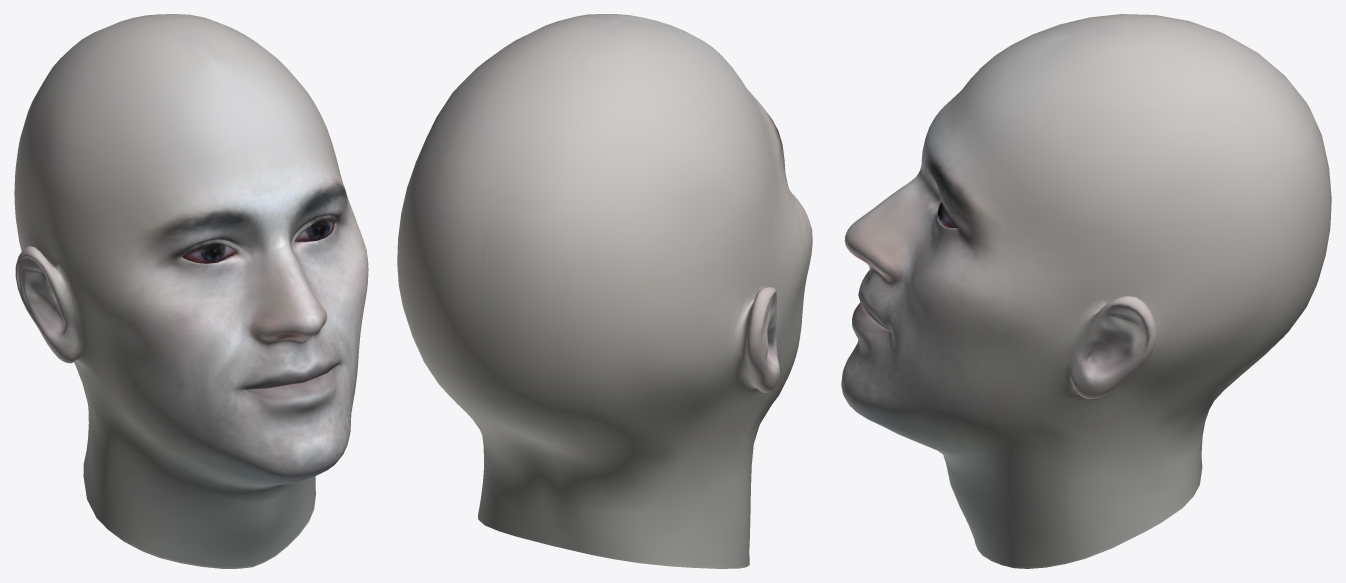
3 views of the same model, side by side, from view 1: azimuth 30°, elevation 25°; view 2: azimuth 150°, elevation 25°; view 3: azimuth 270°, elevation 25° (orthographic). The views are drawn at different scales.
Parts seen in each view (by area): view 1: skin_hi, eyeR_hi, eyeL_hi; view 2: skin_hi; view 3: skin_hi.
Boxes of the visible parts, box(x1,y1,x2,y2) form: skin_hi: box(14, 14, 368, 568); eyeR_hi: box(182, 243, 234, 263); eyeL_hi: box(295, 219, 334, 241); skin_hi: box(397, 14, 812, 568); skin_hi: box(841, 14, 1331, 568).
Size of the model in its own units: 189 by 282 by 242.
